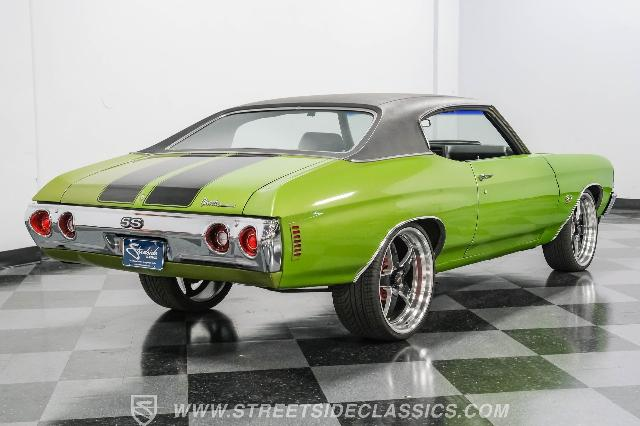chevelle-1972: (21, 93, 617, 343)
